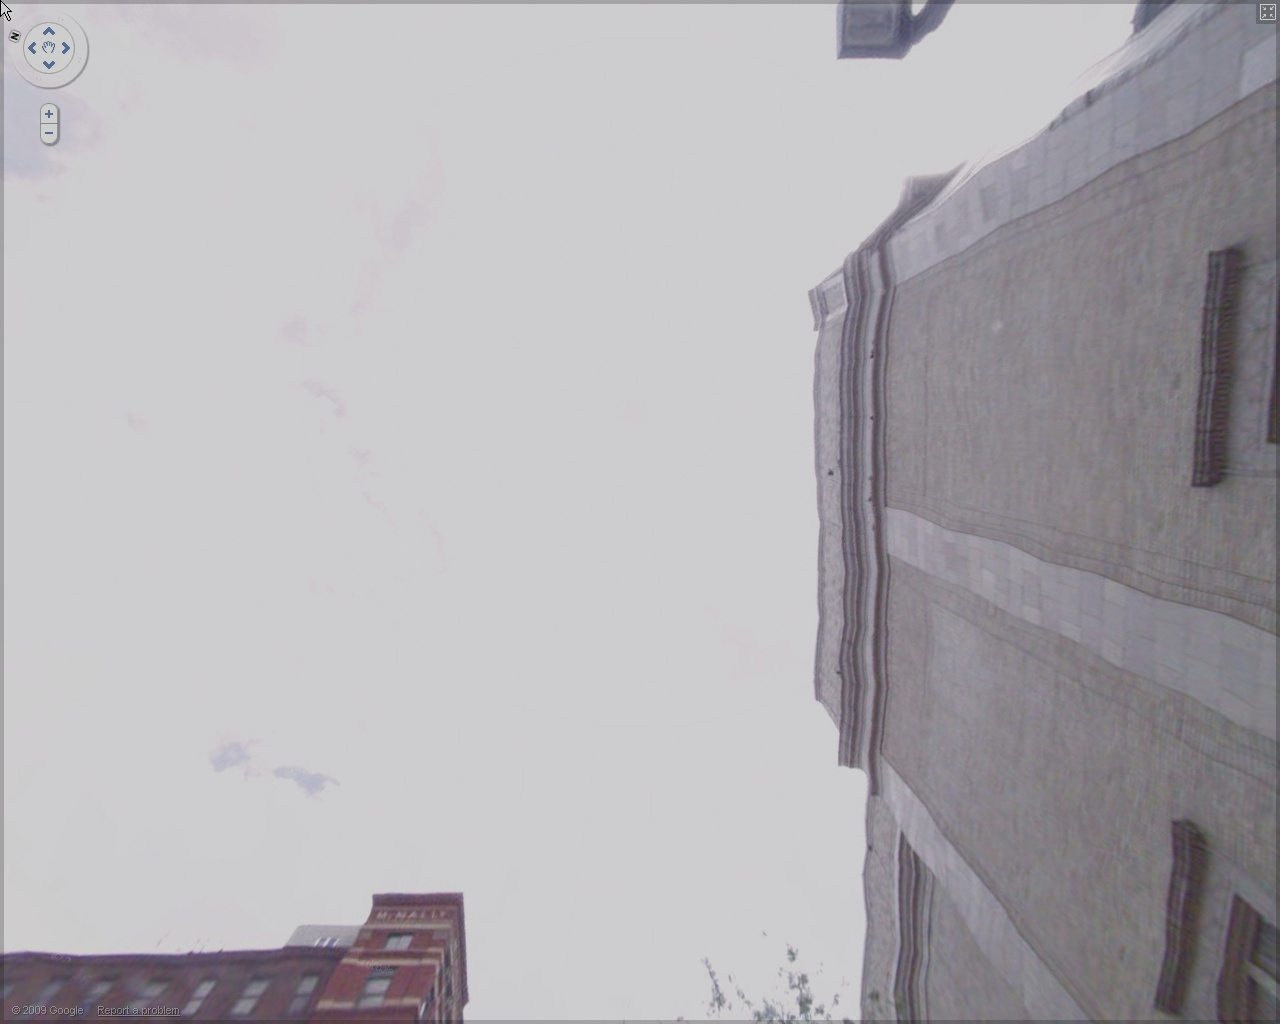traffic_light: (835, 0, 955, 59)
